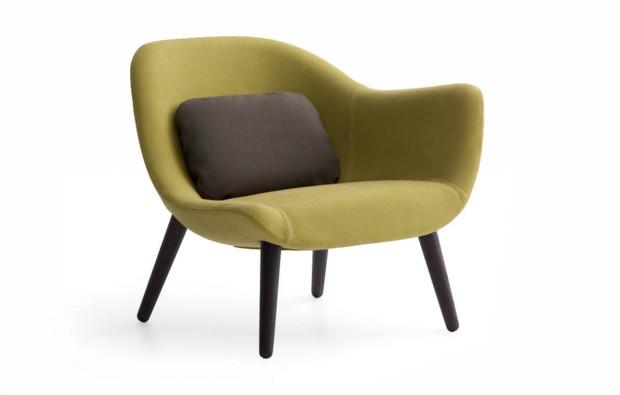chair: (130, 35, 486, 359)
